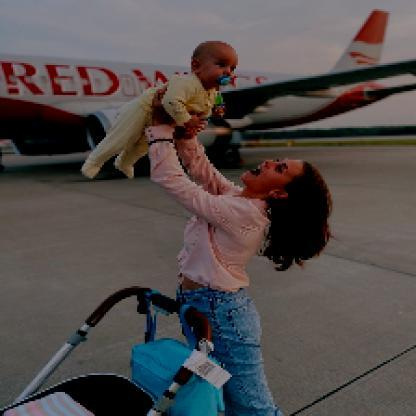child: (81, 41, 239, 181)
